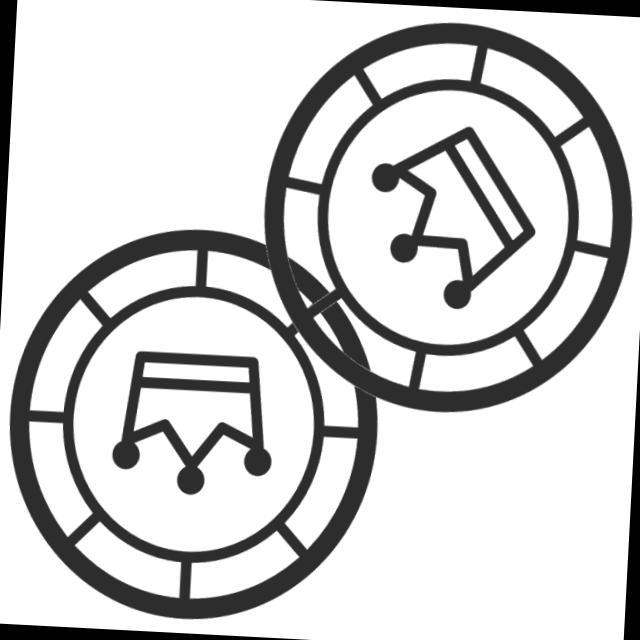coin: (1, 206, 404, 636), (245, 7, 640, 429)
